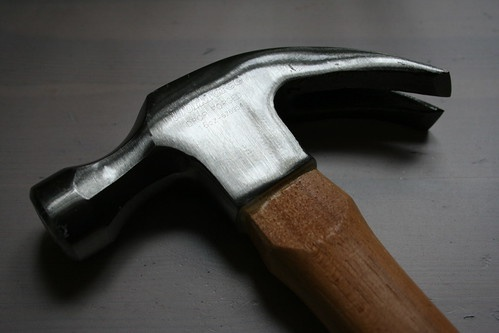hammer: (26, 42, 461, 333)
